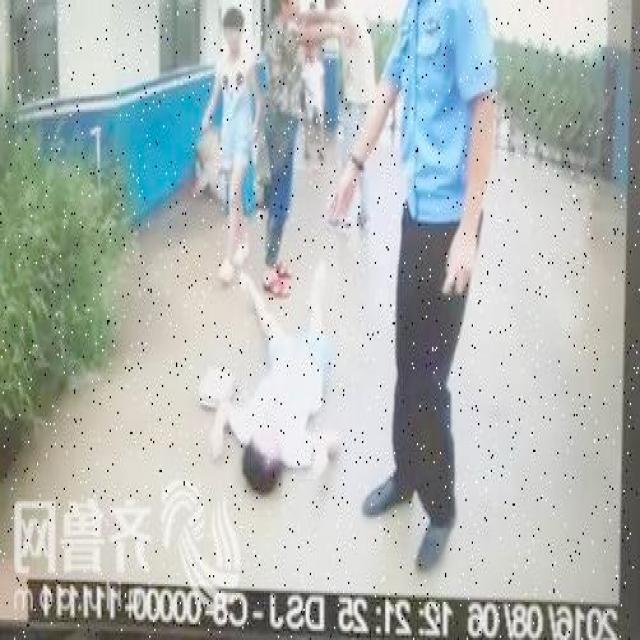fall: (215, 260, 338, 470)
